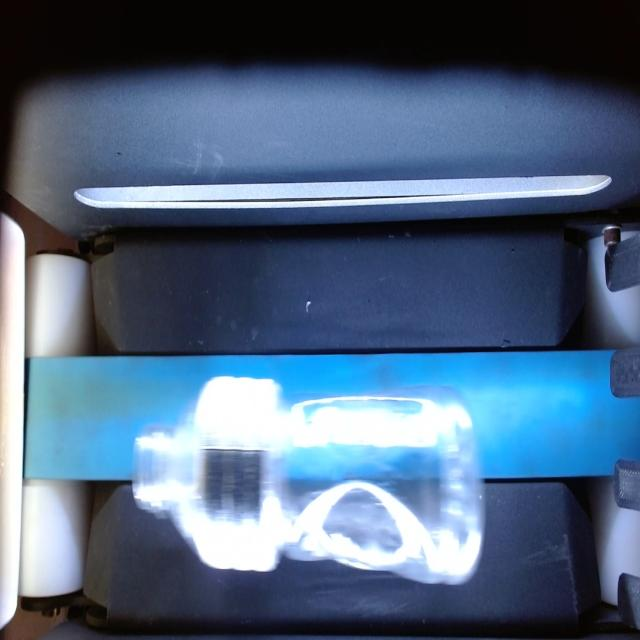bottom: (287, 391, 494, 588)
label: (192, 373, 283, 572)
neck: (132, 396, 193, 547)
